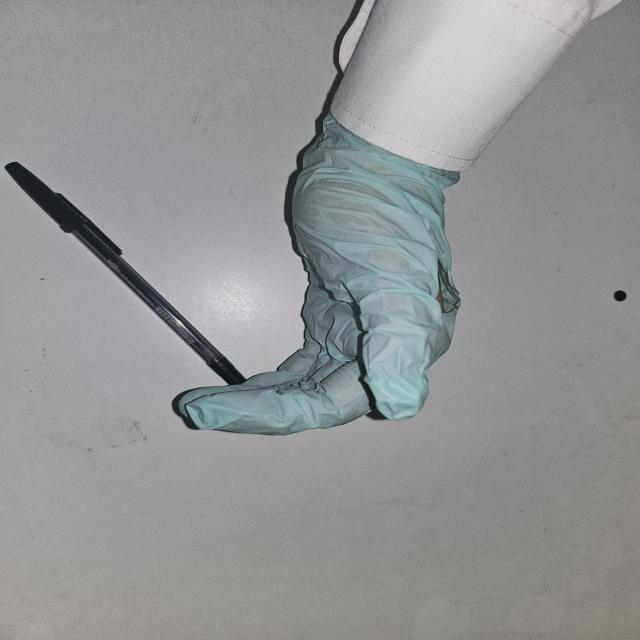gloves_damaged: (168, 127, 468, 438)
